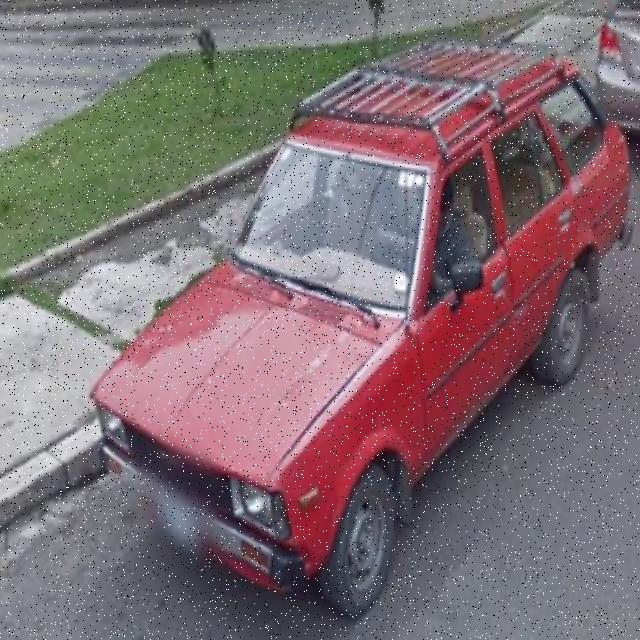cars: (98, 42, 629, 636)
